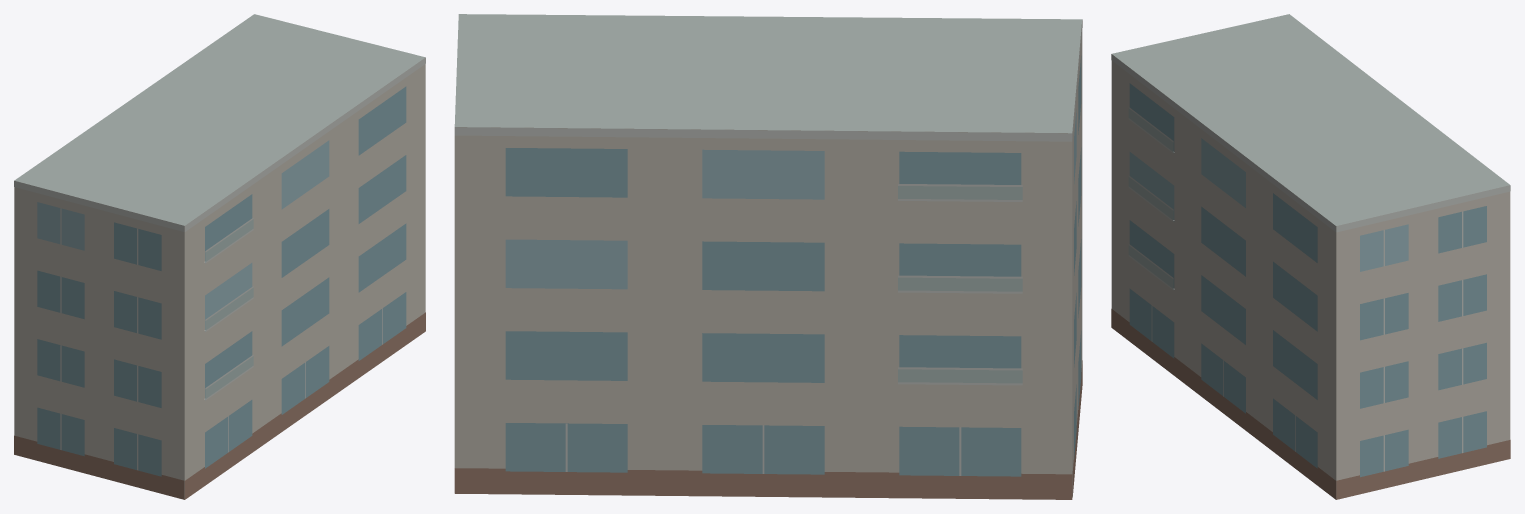
Rendered from survey-upis-32941419.glb.
The picture shows the model from 3 angles, left to right: view 1: azimuth 30°, elevation 25°; view 2: azimuth 150°, elevation 25°; view 3: azimuth 270°, elevation 25°; orthographic projection. The views are drawn at different scales.
Visible parts, largest first — view 1: survey-upis-32941419.tmp; view 2: survey-upis-32941419.tmp; view 3: survey-upis-32941419.tmp.
Part boxes in pixels (x1,y1,x2,y2): survey-upis-32941419.tmp: (14, 14, 425, 499); survey-upis-32941419.tmp: (454, 14, 1082, 499); survey-upis-32941419.tmp: (1111, 14, 1510, 499).
Size of the model in its own units: 17.38 by 10.45 by 13.81.
